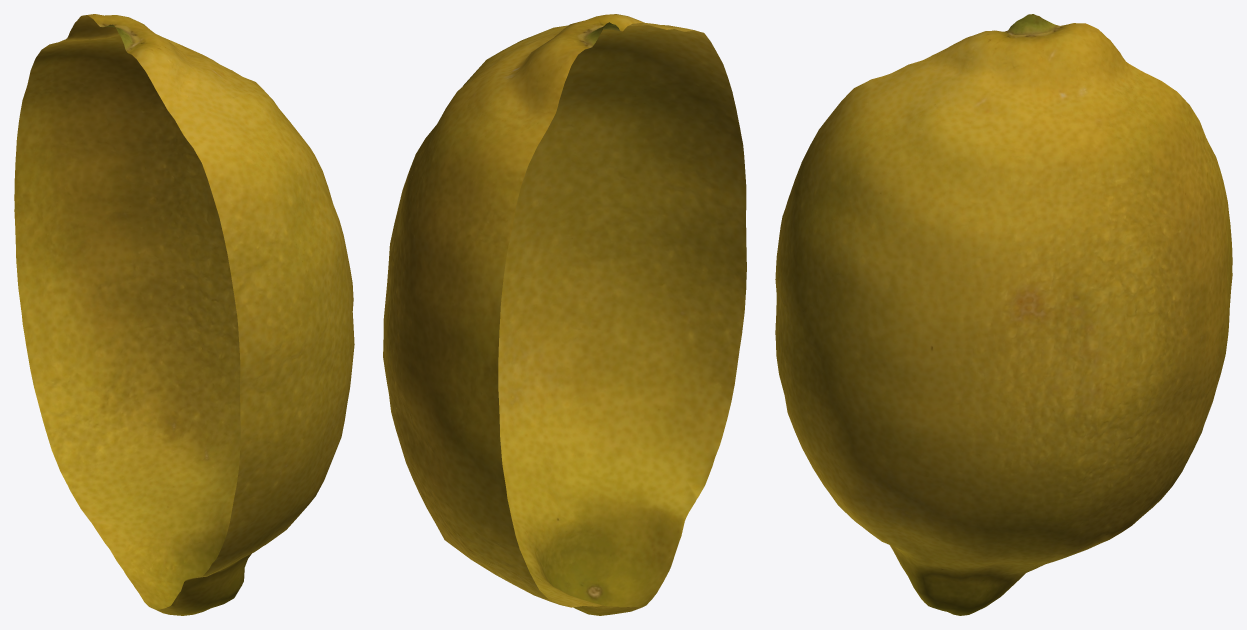
File: halfA.glb
3 views of the same model, side by side, from view 1: azimuth 30°, elevation 25°; view 2: azimuth 150°, elevation 25°; view 3: azimuth 270°, elevation 25° (orthographic). The views are drawn at different scales.
Parts seen in each view (by area): view 1: lemon; view 2: lemon; view 3: lemon.
Part boxes in pixels (bbox=[...]): lemon: bbox=[14, 14, 354, 615]; lemon: bbox=[383, 14, 746, 615]; lemon: bbox=[775, 14, 1232, 615].
Size of the model in its own units: 0.6854 by 1.99 by 1.43.
Materials: 1 (1 with a texture image).
